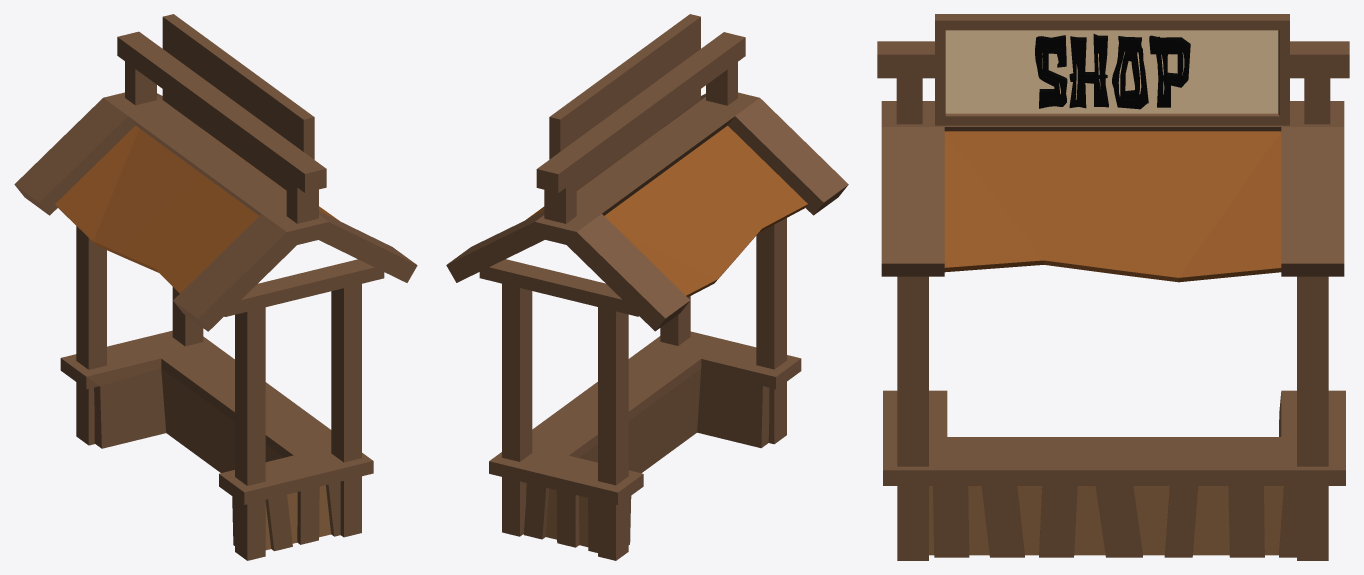
File: shop.fbx
3 views of the same model, side by side, from view 1: azimuth 30°, elevation 25°; view 2: azimuth 150°, elevation 25°; view 3: azimuth 270°, elevation 25° (orthographic). The views are drawn at different scales.
Visible parts, largest first — view 1: Cube.011; view 2: Cube.011; view 3: Cube.011.
Part boxes in pixels (left/top/right/bottom): Cube.011: left=14, top=14, right=417, bottom=560; Cube.011: left=446, top=14, right=848, bottom=560; Cube.011: left=877, top=14, right=1349, bottom=560.
Bounding box in the file's own units: 729 × 1312 × 1078.
